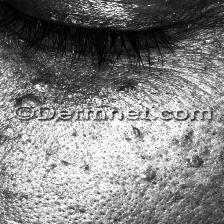Benign Marking or Mole: (120, 126, 224, 191), (111, 78, 148, 100), (27, 74, 59, 90), (17, 92, 50, 105)
